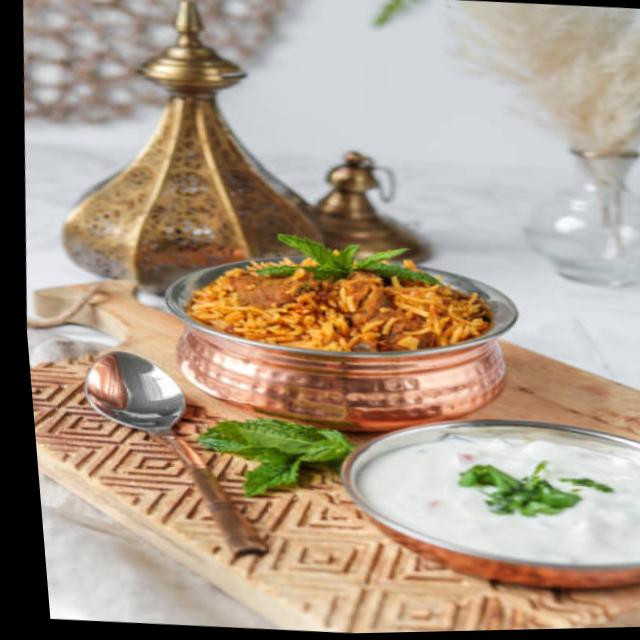BIRIYANI: (191, 259, 473, 348)
